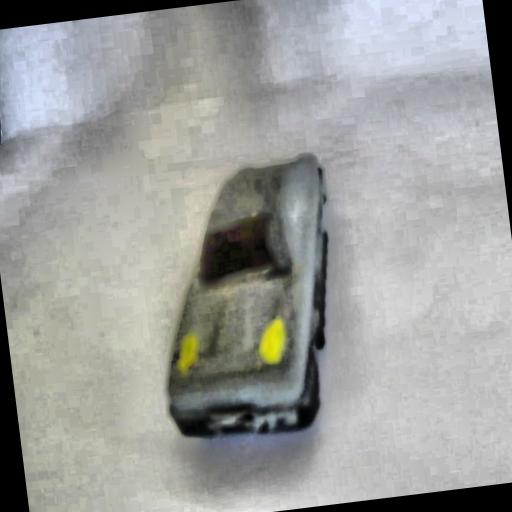normal_car: (132, 150, 358, 452)
